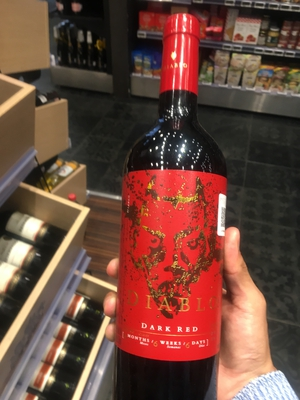diablo dark red: (114, 16, 244, 400)
